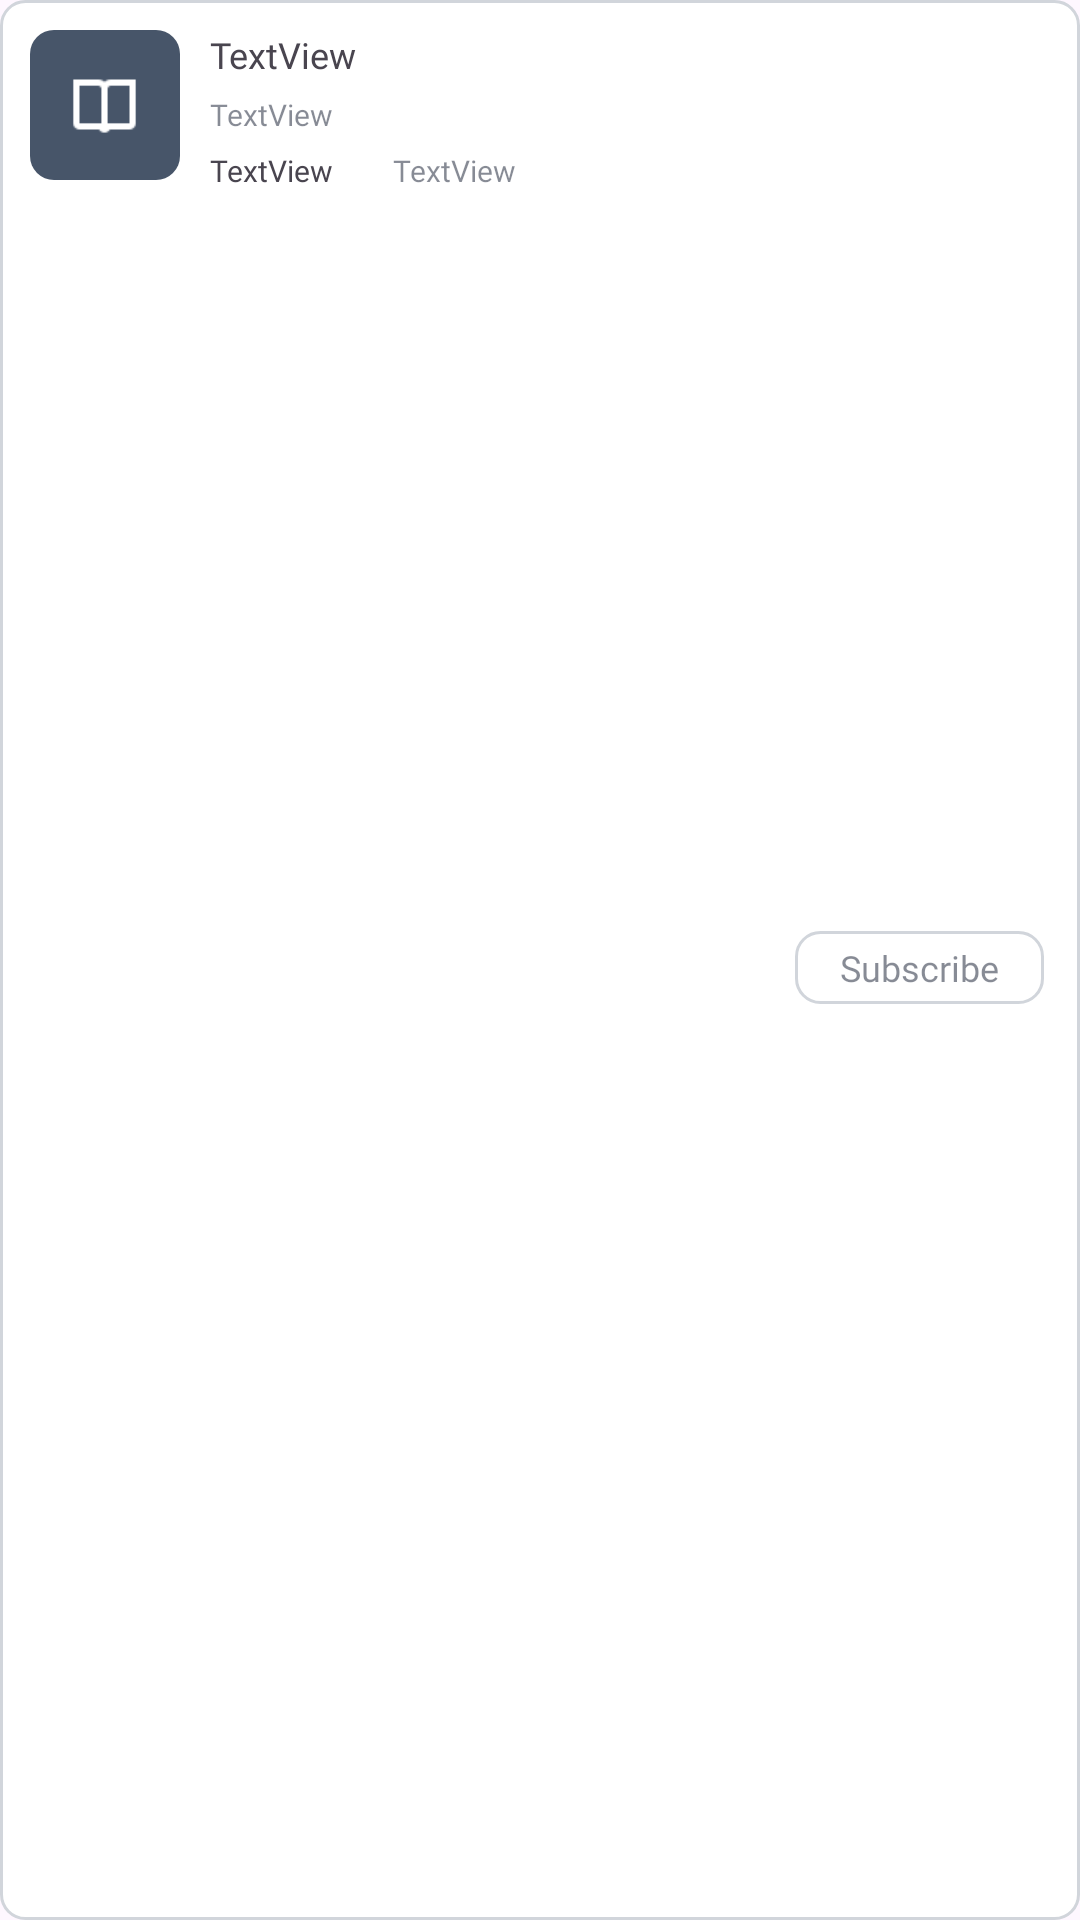

Named icons in this screenshot (1080×1920) and their bounding boxes, [left=x1, top=y1, right=x2, bottom=y2]:
book: [left=73, top=79, right=136, bottom=133]
